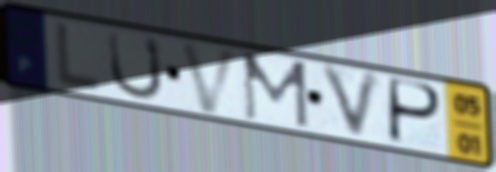L: (54, 19, 105, 97)
M: (240, 50, 312, 131)
P: (386, 75, 446, 148)
U: (106, 28, 166, 102)
V: (316, 61, 386, 145), (177, 39, 243, 117)
